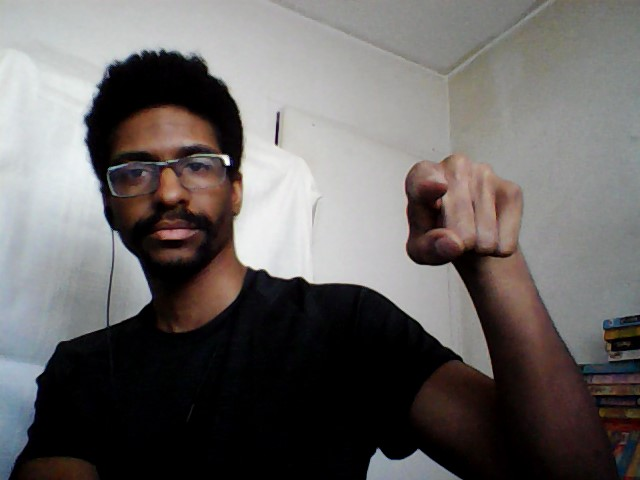z: (396, 150, 529, 275)
